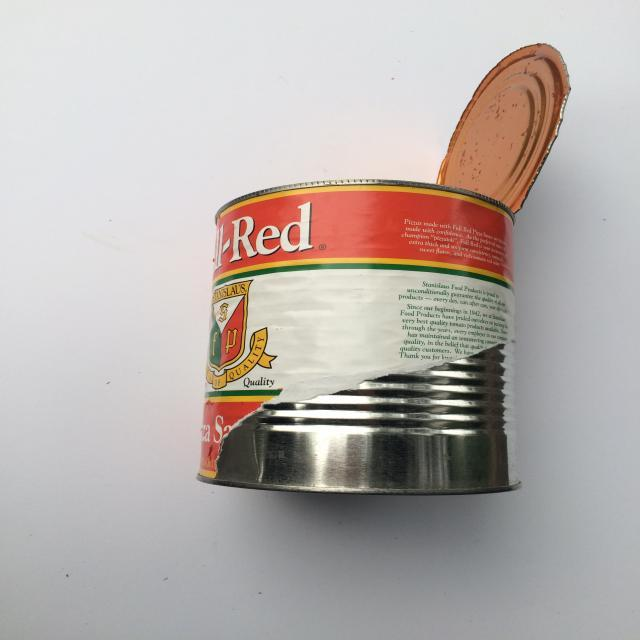metal: (192, 43, 572, 499)
